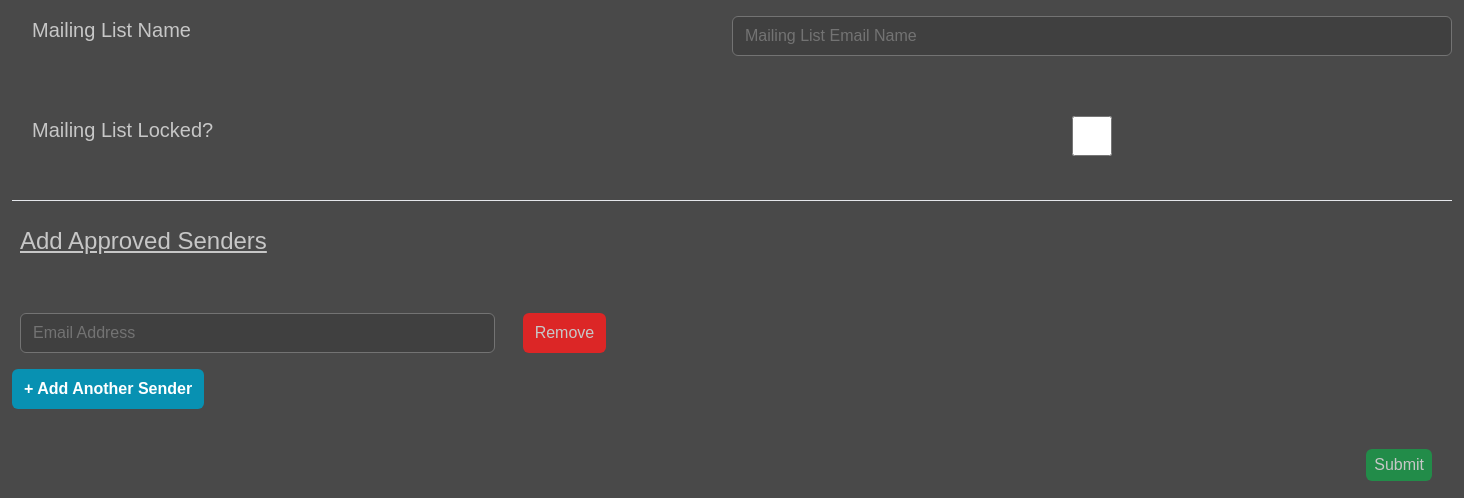
it: List Creation Form is rendered
Expected: the field labelled "Mailing List Name" is shown, left=732, top=16, right=1452, bottom=56
Expected: the field named "sender0" is shown, left=20, top=313, right=495, bottom=353
Click the button with aria-label "delete0" at (564,333), box left=523, top=313, right=606, bottom=353
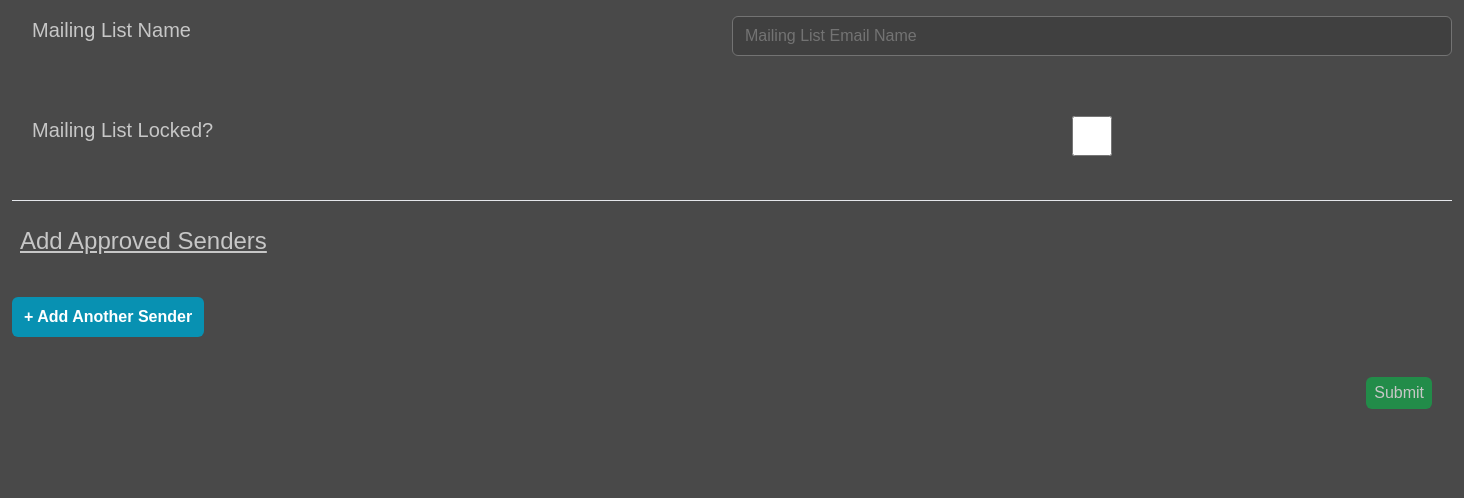
Now the field labelled "sender0" is gone
Click the button "+ Add Another Sender" at (108,317), box left=12, top=297, right=204, bottom=337
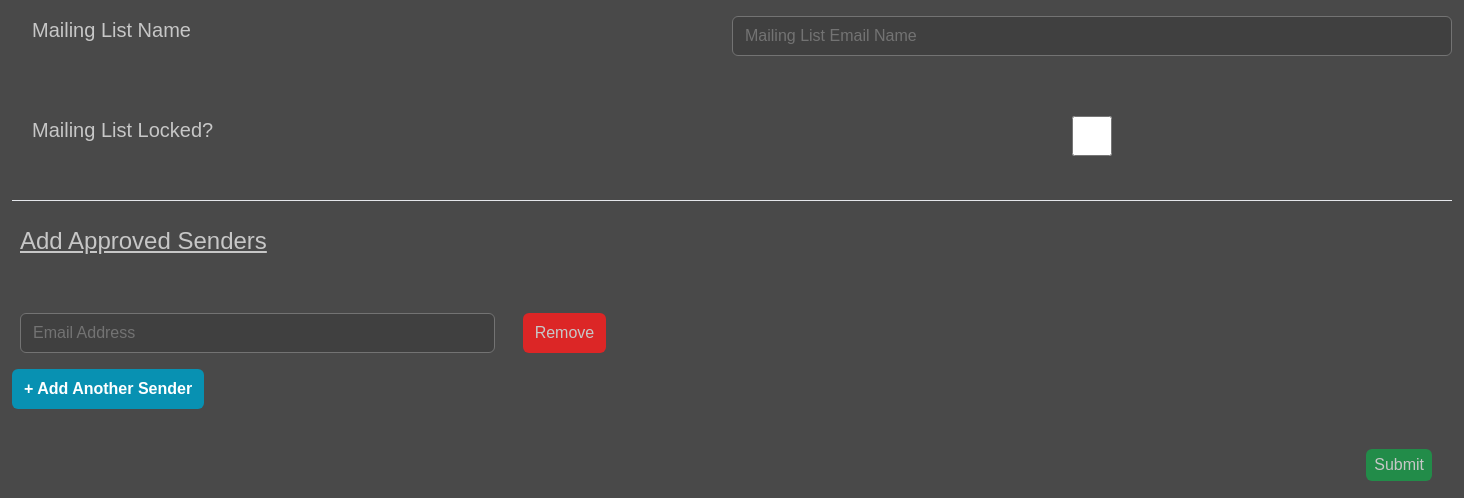
Expected: the button "Submit" is shown, left=1366, top=449, right=1432, bottom=481
Now the field named "sender0" is shown, box left=20, top=313, right=495, bottom=353
